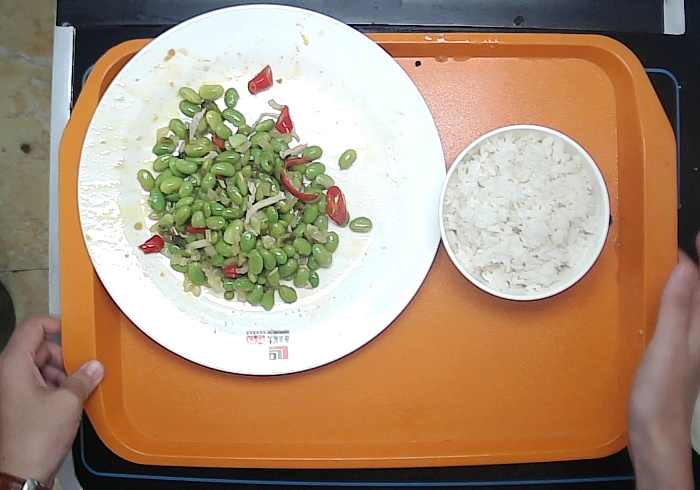ZNLD-Da_Yuan_Pan: (74, 1, 450, 378)
ZNLD-Fan_Wan: (433, 120, 616, 305)
